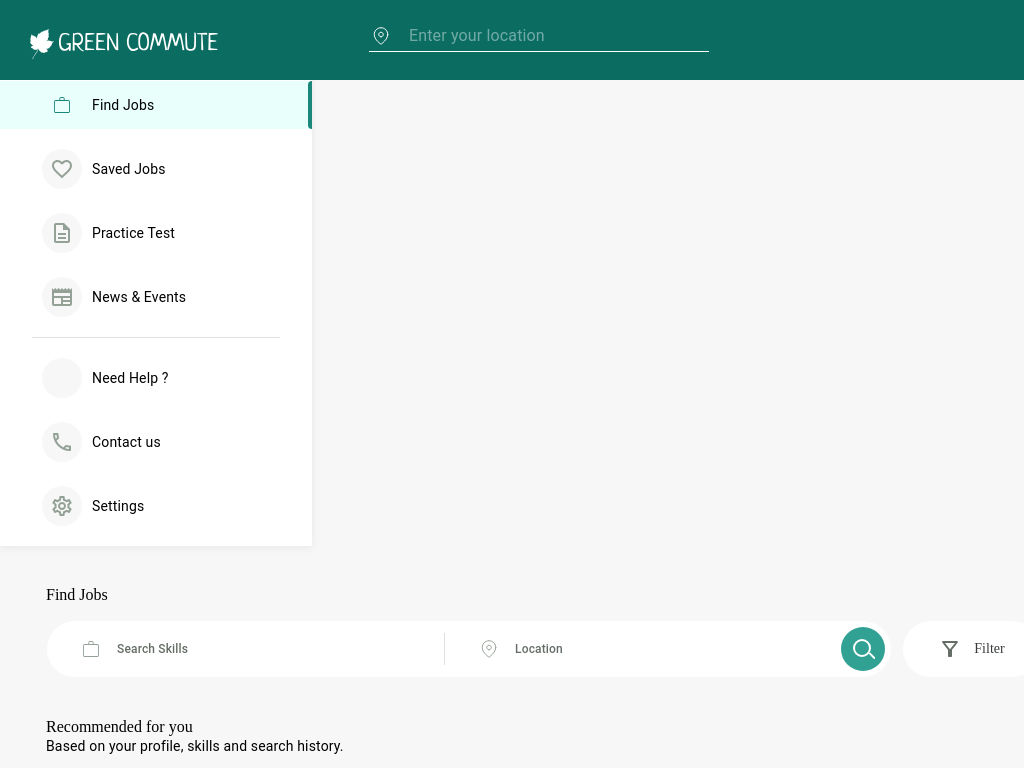
Scenario: filter box appers when the filter-button is clicked
(page scrolled)
Click the button "Filter": {"x": 964, "y": 649} [903, 621, 1023, 677]
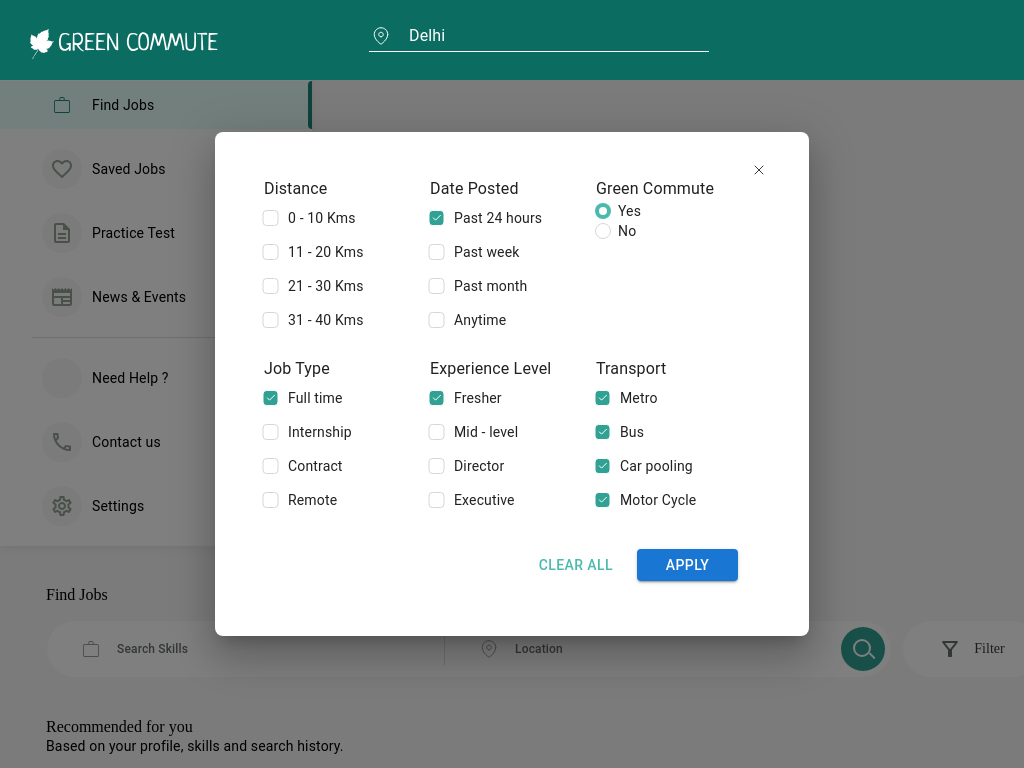
Now the element with test id "filter-box" is shown, box [239, 152, 785, 616]
